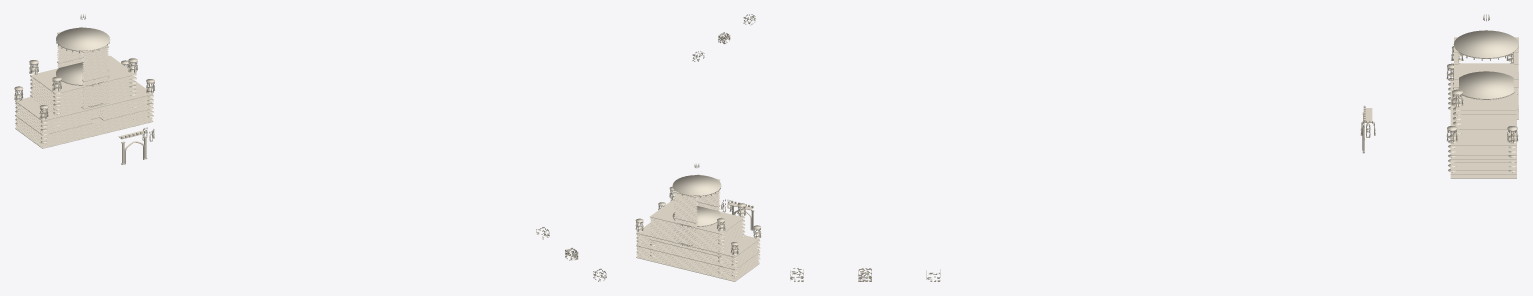
File: Neris-11.glb
3 views of the same model, side by side, from view 1: azimuth 30°, elevation 25°; view 2: azimuth 150°, elevation 25°; view 3: azimuth 270°, elevation 25° (orthographic). The views are drawn at different scales.
Visible parts, largest first — view 1: Pale Carved Stone; view 2: Pale Carved Stone, Limestone Block Tone 1; view 3: Pale Carved Stone.
Part boxes in pixels (x1=…): Pale Carved Stone: x1=14, y1=14, x2=154, y2=164; Pale Carved Stone: x1=635, y1=163, x2=761, y2=281; Limestone Block Tone 1: x1=692, y1=14, x2=755, y2=61; Pale Carved Stone: x1=1360, y1=14, x2=1518, y2=178.
Size of the model in its own units: 305 by 110 by 555.
